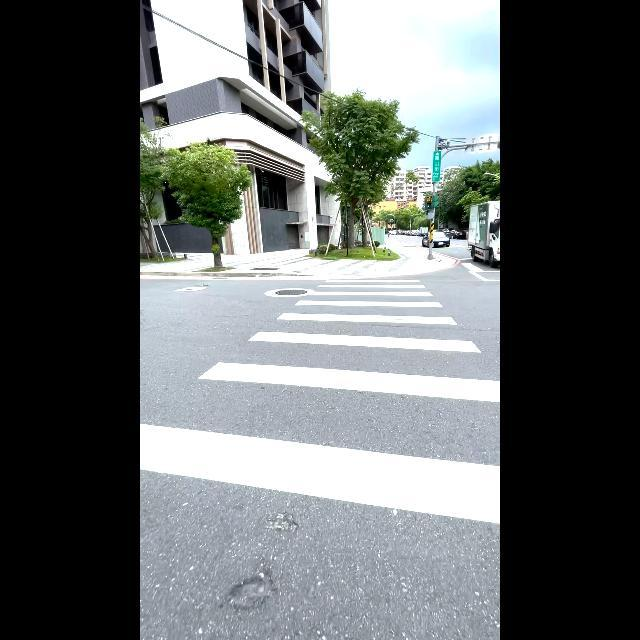sidewalk: (140, 267, 500, 640)
